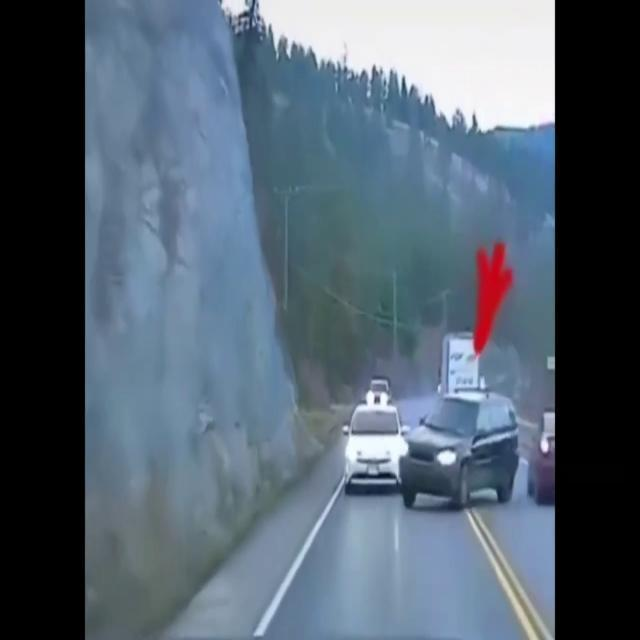accident: (386, 384, 528, 518)
